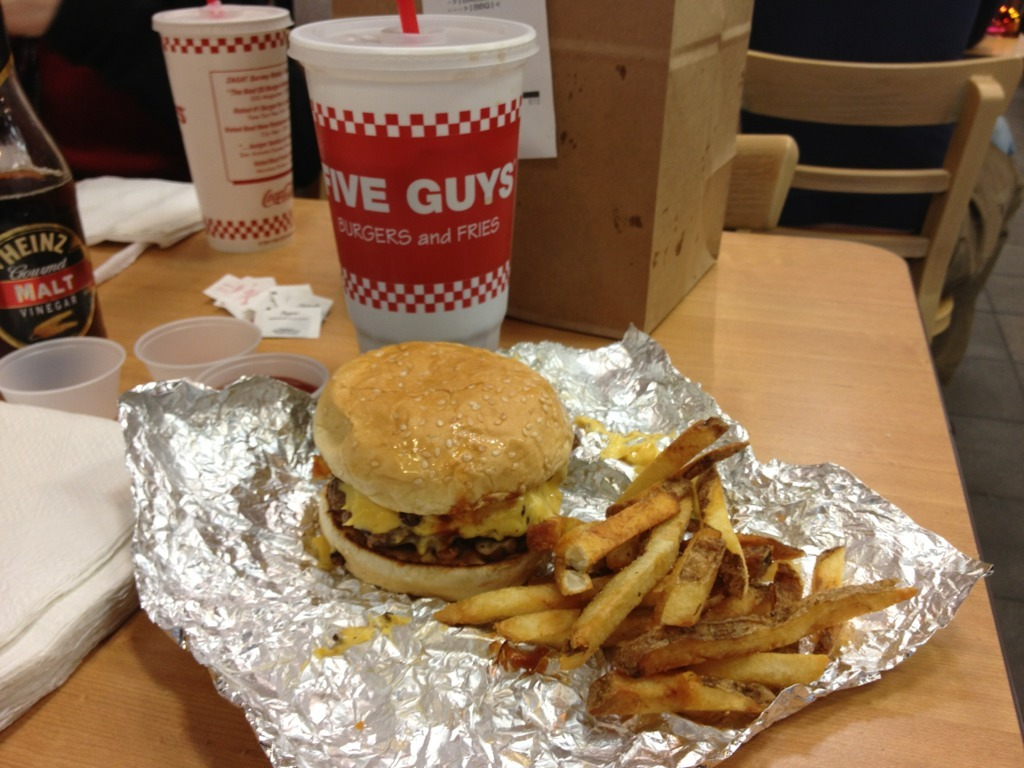French fries: (433, 408, 929, 722)
